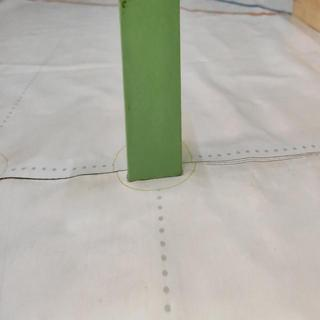greenbox: (118, 0, 184, 180)
